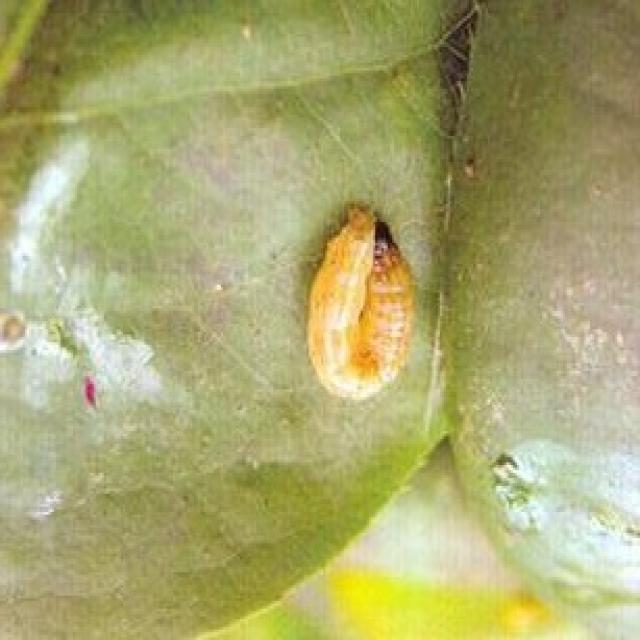peach borer: (299, 200, 420, 409)
